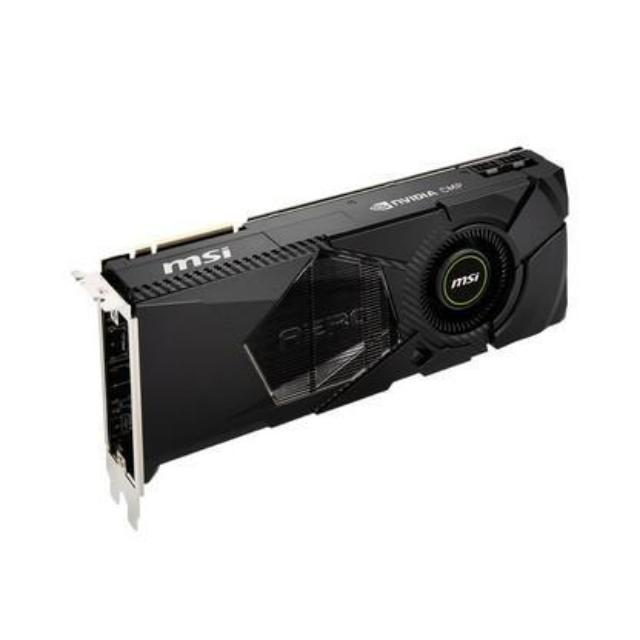GPU: (87, 141, 575, 479)
